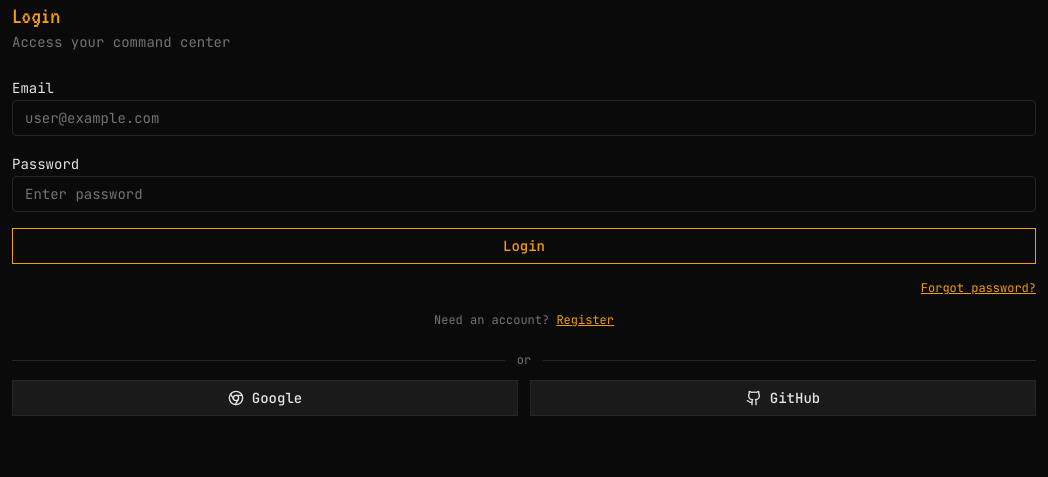
LoginForm › shows validation error for empty email
What coordinates should you click on to do the following:
click the button "Login"
I would click on:
 (524, 246)
Its box is [12, 228, 1036, 264].
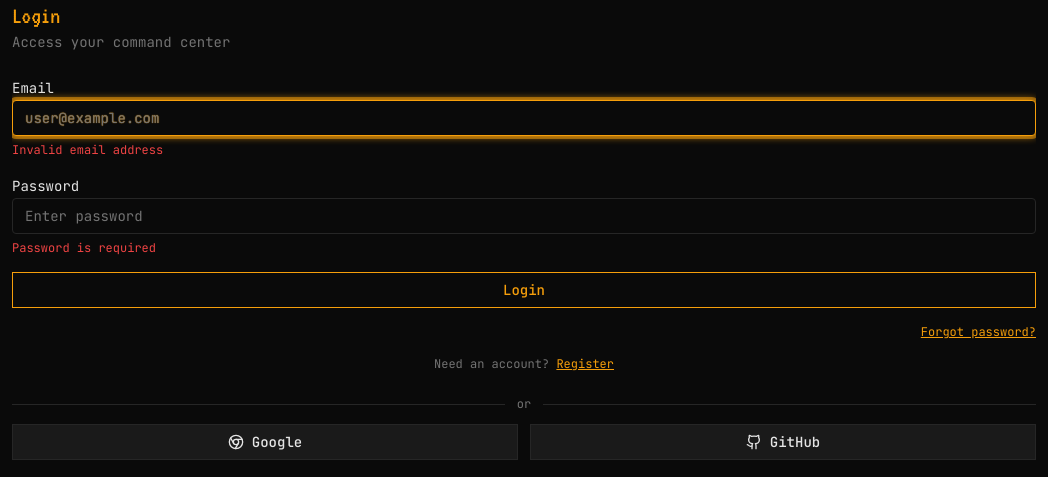
Check: the text "Invalid email address" is shown, box [12, 142, 163, 158]
